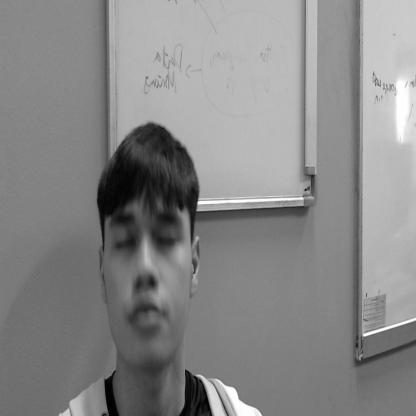Closed-Eyes: (105, 199, 186, 260)
